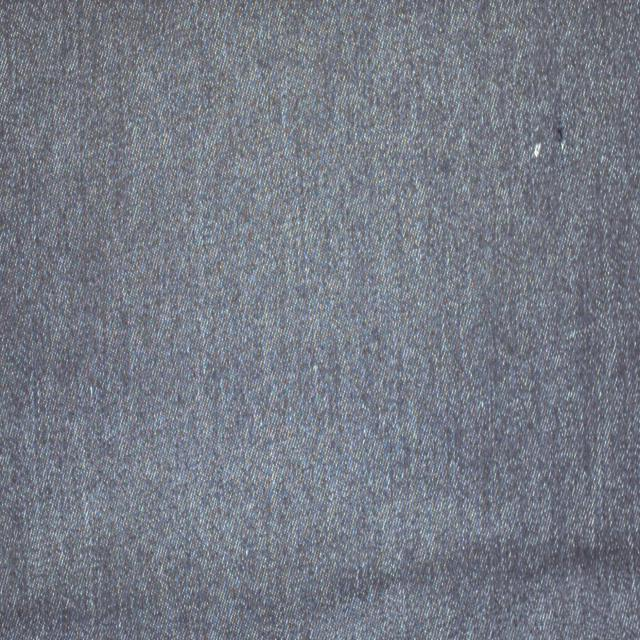Hole: (555, 124, 566, 150)
